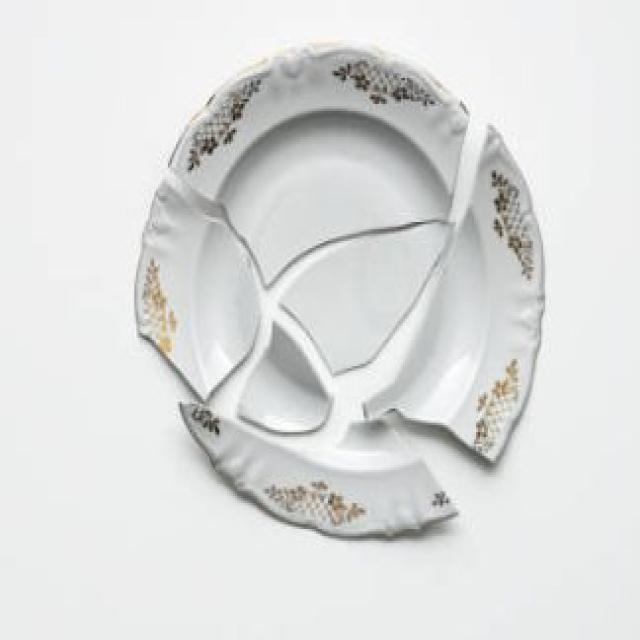electronic: (134, 36, 547, 546)
